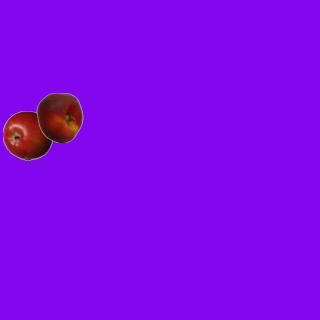Apple Braeburn: (2, 110, 52, 160)
Nectarine Flat: (34, 92, 84, 142)
